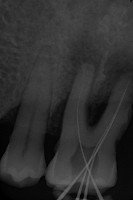Dental Caries: (64, 30, 132, 128)
